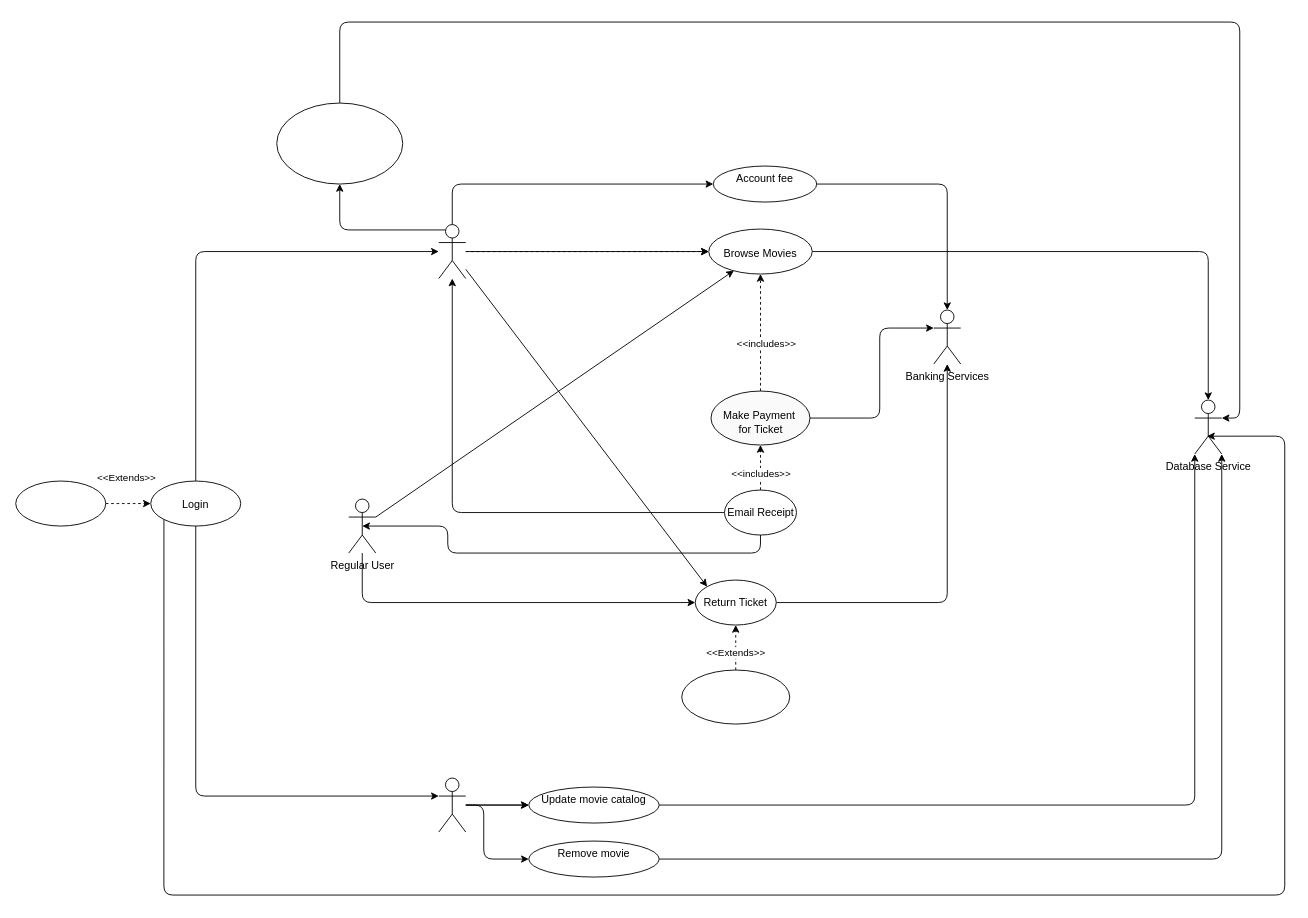
Image size: 1308x918. Some labels were removed from this diagram. The shapes that lost their labels are listed below. From the top down, each one's box as (x1, y1, x2, y2) in pixels, then its label:
(276, 102, 403, 184): Receieve Early Information on Movie
(438, 224, 466, 279): Registered User
(15, 480, 106, 526): Sign Up/Register
(681, 669, 790, 724): Admin Fee (Canceling ticket)
(438, 777, 466, 832): Admin
